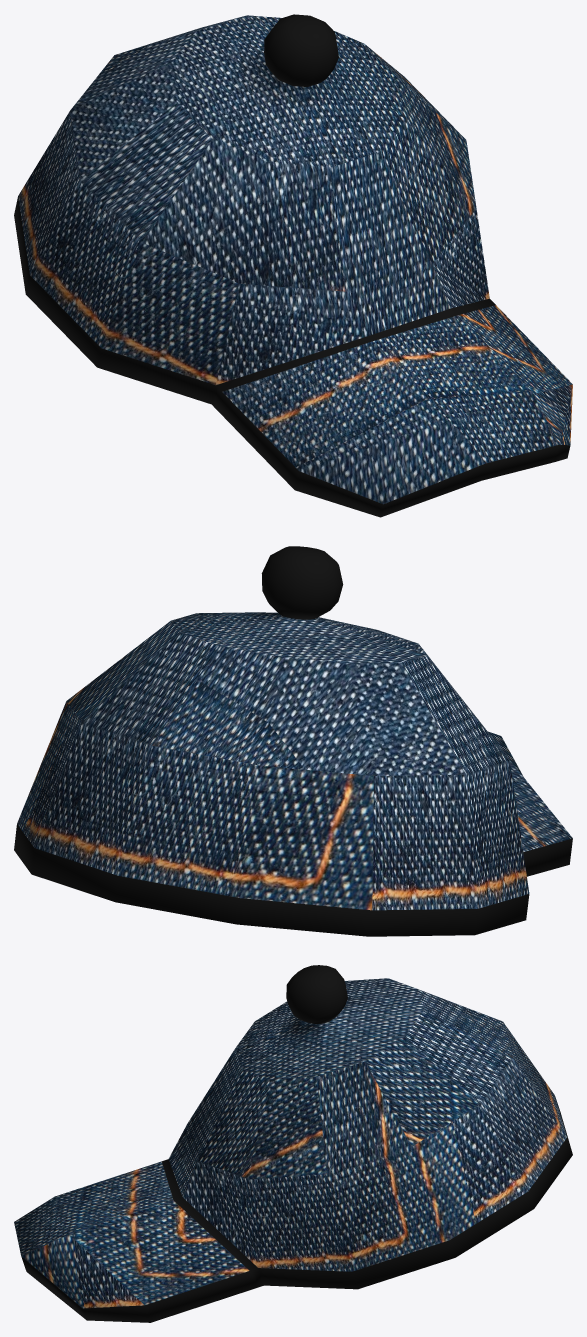
The model's file is CAP_03.FBX.
3 renders of one model, top to bottom at view 1: azimuth 30°, elevation 25°; view 2: azimuth 150°, elevation 25°; view 3: azimuth 270°, elevation 25°, orthographic. The views are drawn at different scales.
Visible parts, largest first — view 1: Sphere001; view 2: Sphere001; view 3: Sphere001.
Boxes of the visible parts, x1,y1,x2,y2 form: Sphere001: [14, 14, 572, 517]; Sphere001: [14, 546, 572, 936]; Sphere001: [14, 965, 572, 1322].
Bounding box in the file's own units: 131 × 111 × 186.
2 materials, 1 textured.
